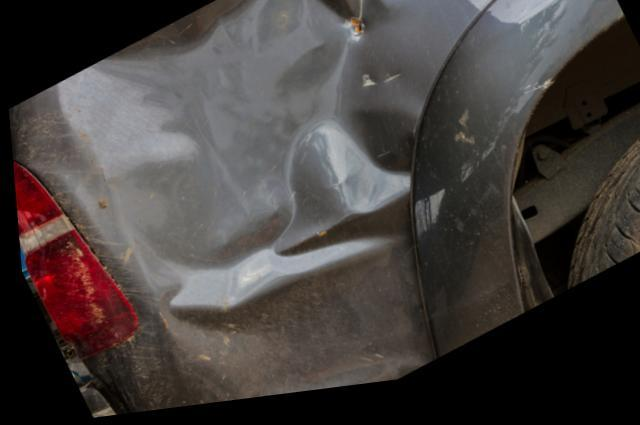dent: (55, 0, 500, 403)
